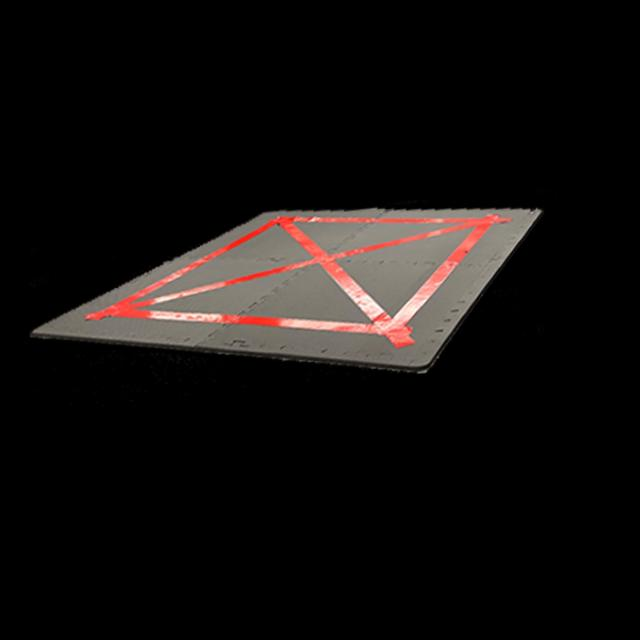landingPads: (31, 194, 552, 422)
